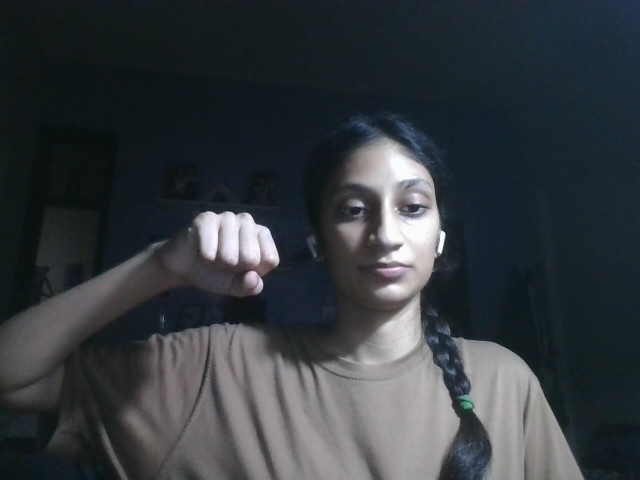yes: (162, 207, 285, 307)
